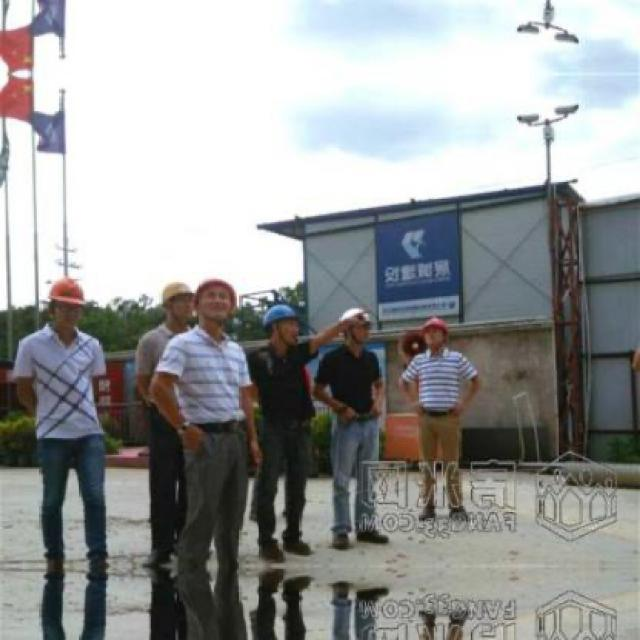helmet: (192, 272, 238, 336), (43, 278, 88, 336), (265, 301, 306, 358), (158, 276, 200, 330), (338, 305, 371, 350), (418, 318, 452, 356)
